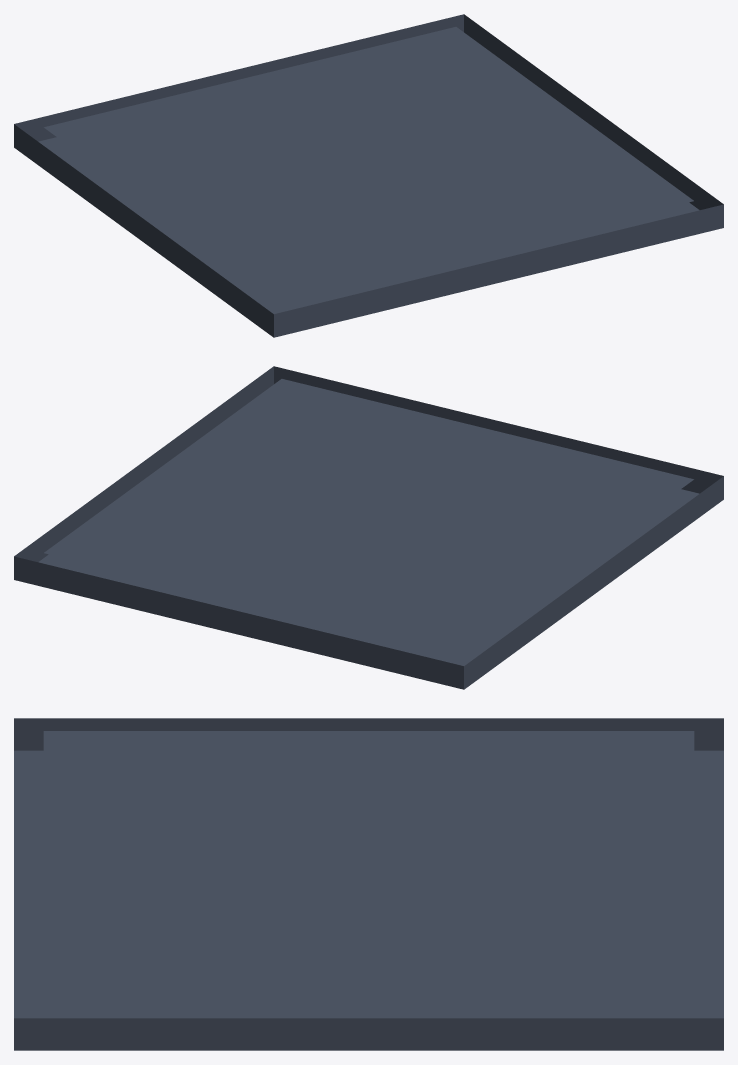
File: Floor.glb
3 views of the same model, one above another, from view 1: azimuth 30°, elevation 25°; view 2: azimuth 150°, elevation 25°; view 3: azimuth 270°, elevation 25° (orthographic). The views are drawn at different scales.
Visible parts, largest first — view 1: Floor; view 2: Floor; view 3: Floor.
Part boxes in pixels (box(x1,y1,x2,y2)): Floor: box(14, 14, 723, 337); Floor: box(14, 366, 723, 689); Floor: box(14, 718, 723, 1050).
Size of the model in its own units: 5 by 0.25 by 5.
